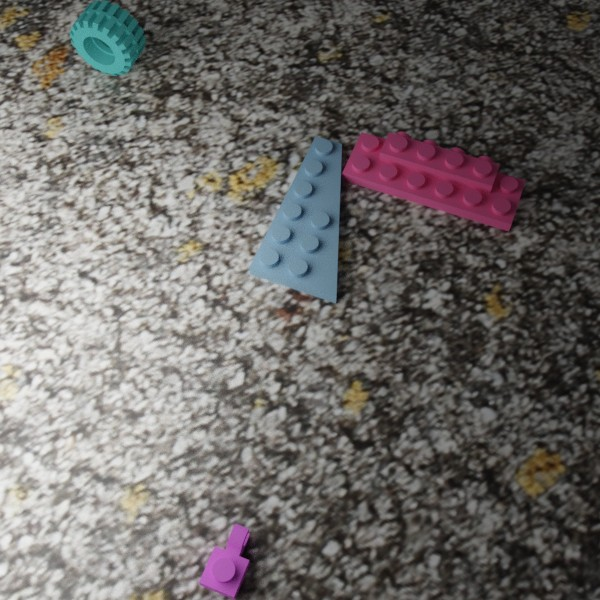lego: (341, 131, 525, 231), (249, 136, 341, 303), (69, 0, 145, 76), (198, 523, 250, 600)
